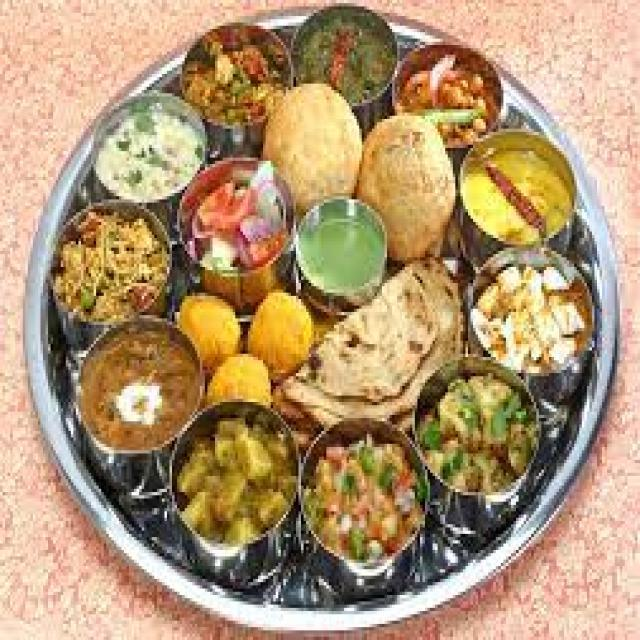curd: (90, 91, 204, 203)
dal: (464, 133, 572, 245)
papad: (295, 266, 471, 434)
raita: (88, 89, 206, 205)
rice: (469, 247, 601, 381)
sweet: (68, 321, 199, 465), (187, 158, 292, 288), (462, 128, 572, 252)
veg-fry: (162, 401, 298, 559), (68, 316, 203, 474)
